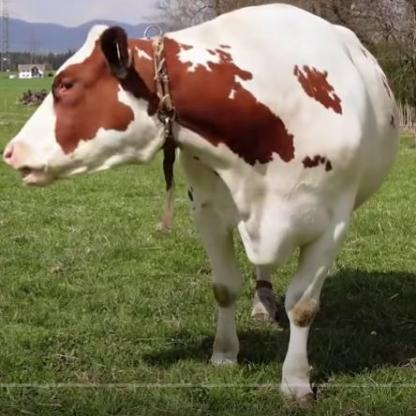cow: (5, 3, 399, 408)
